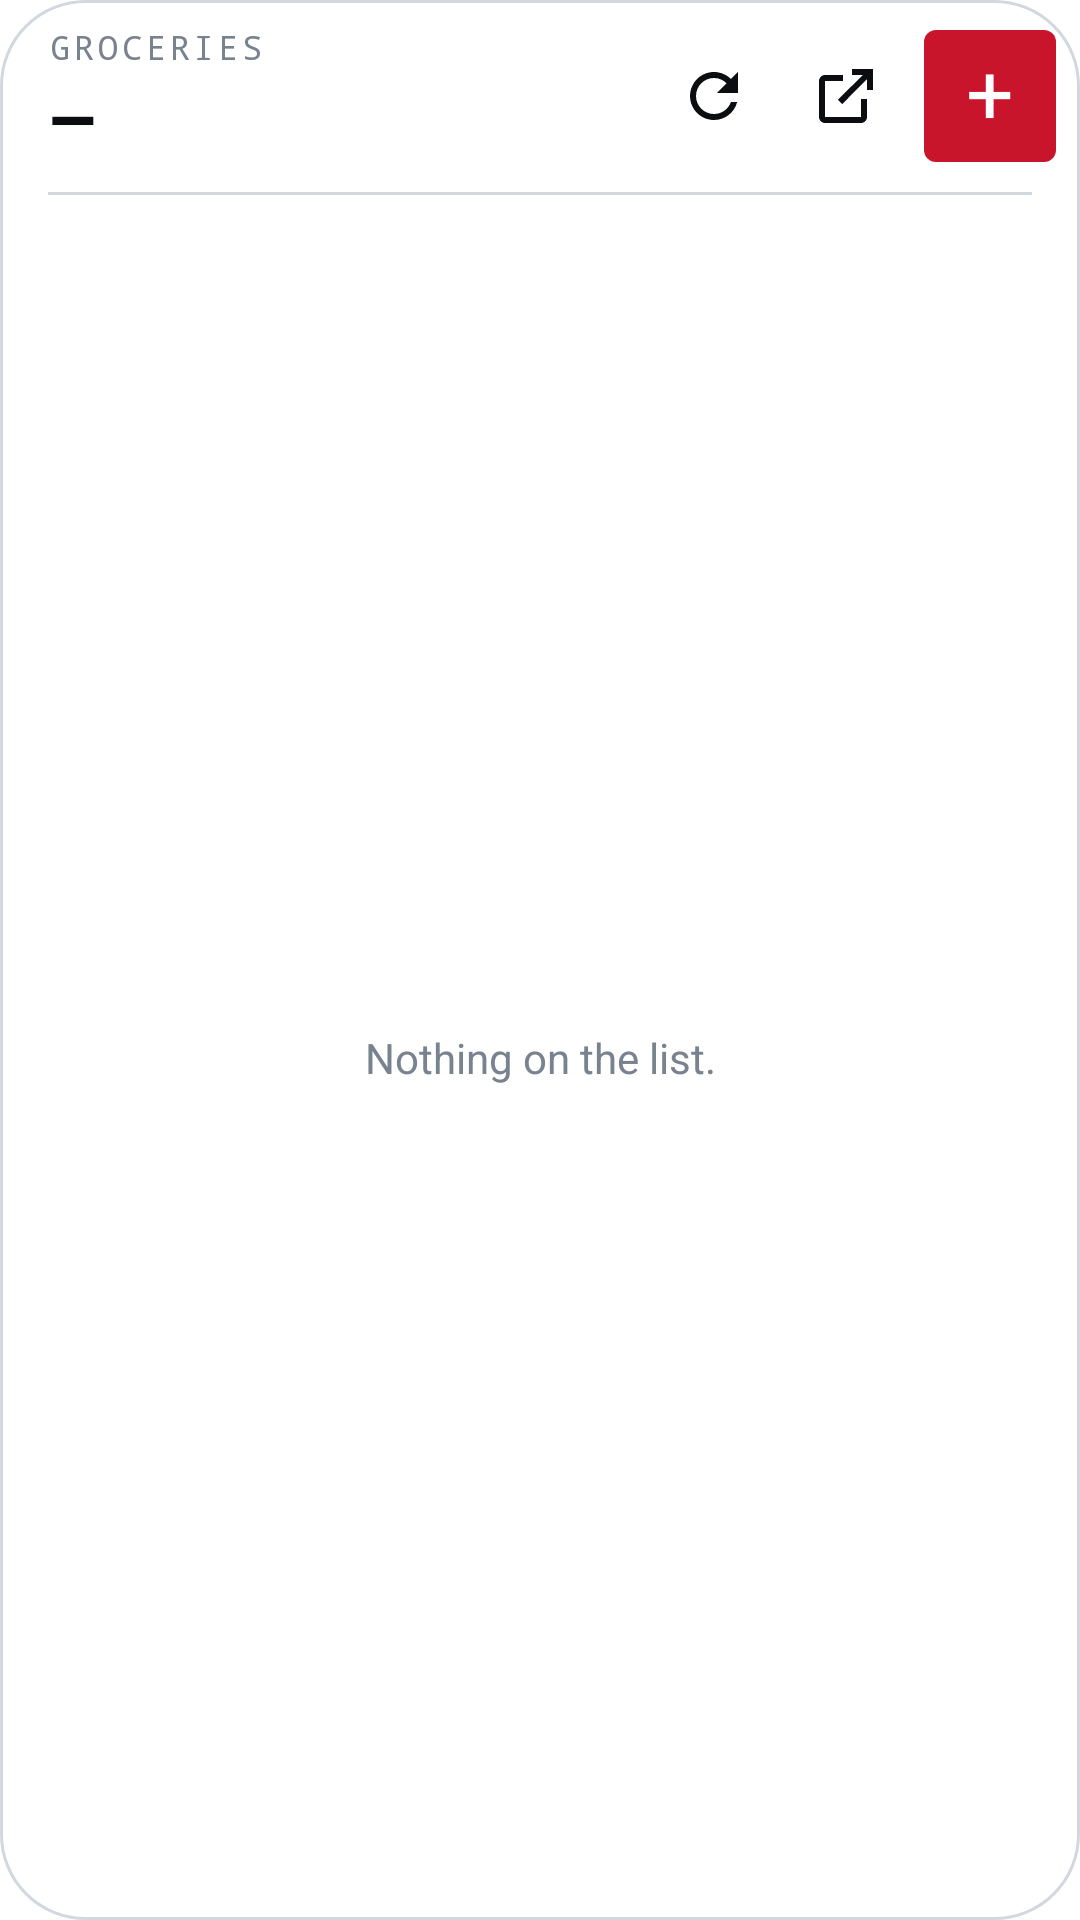

Point at icon controls on the screen. Image size 1080 × 1920, points as (x,y).
Refresh: (714,96)
